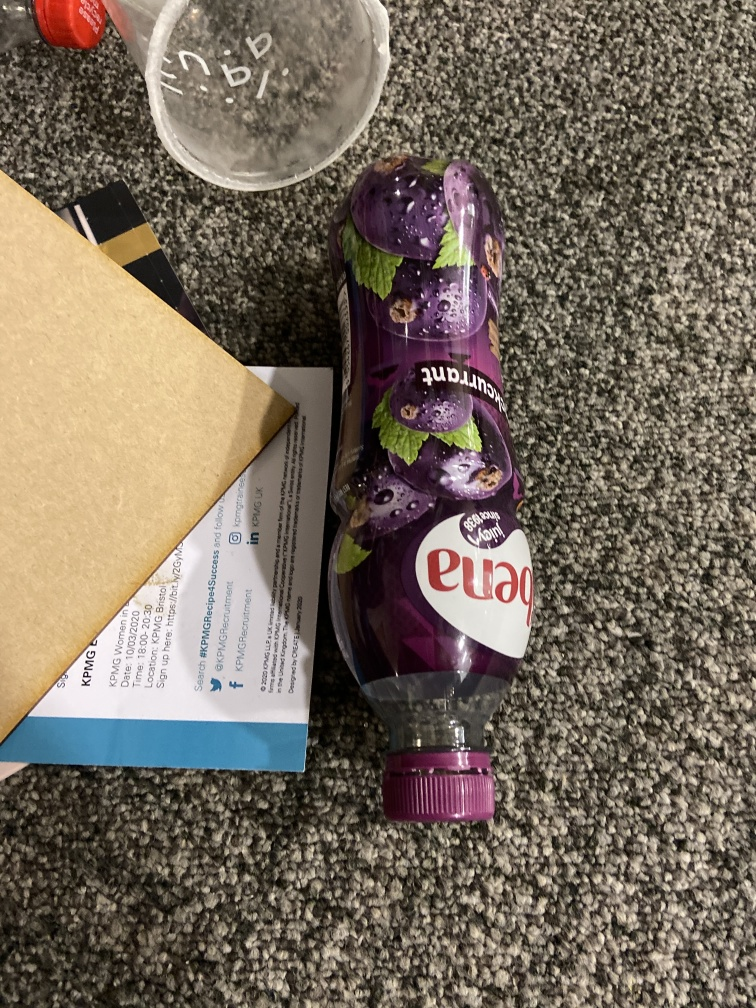bottle_purple: (310, 145, 556, 832)
